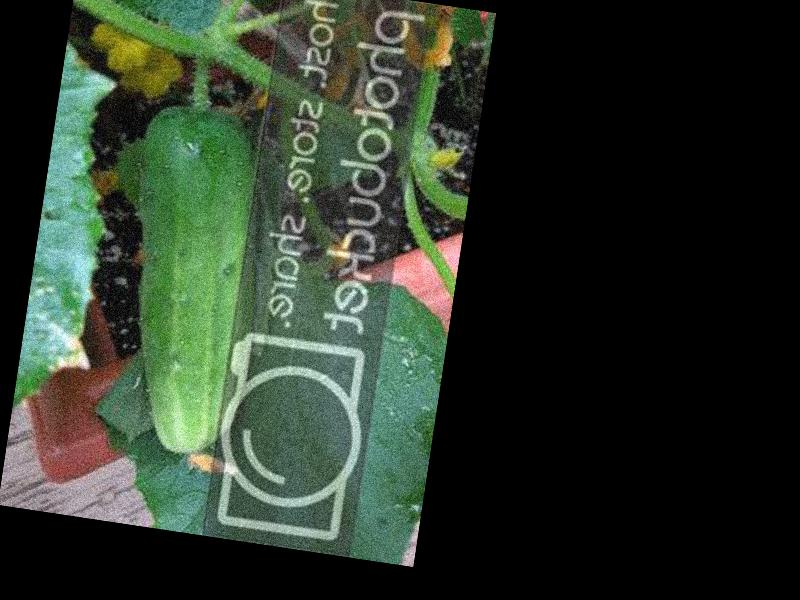Cucumber: (97, 103, 285, 464)
